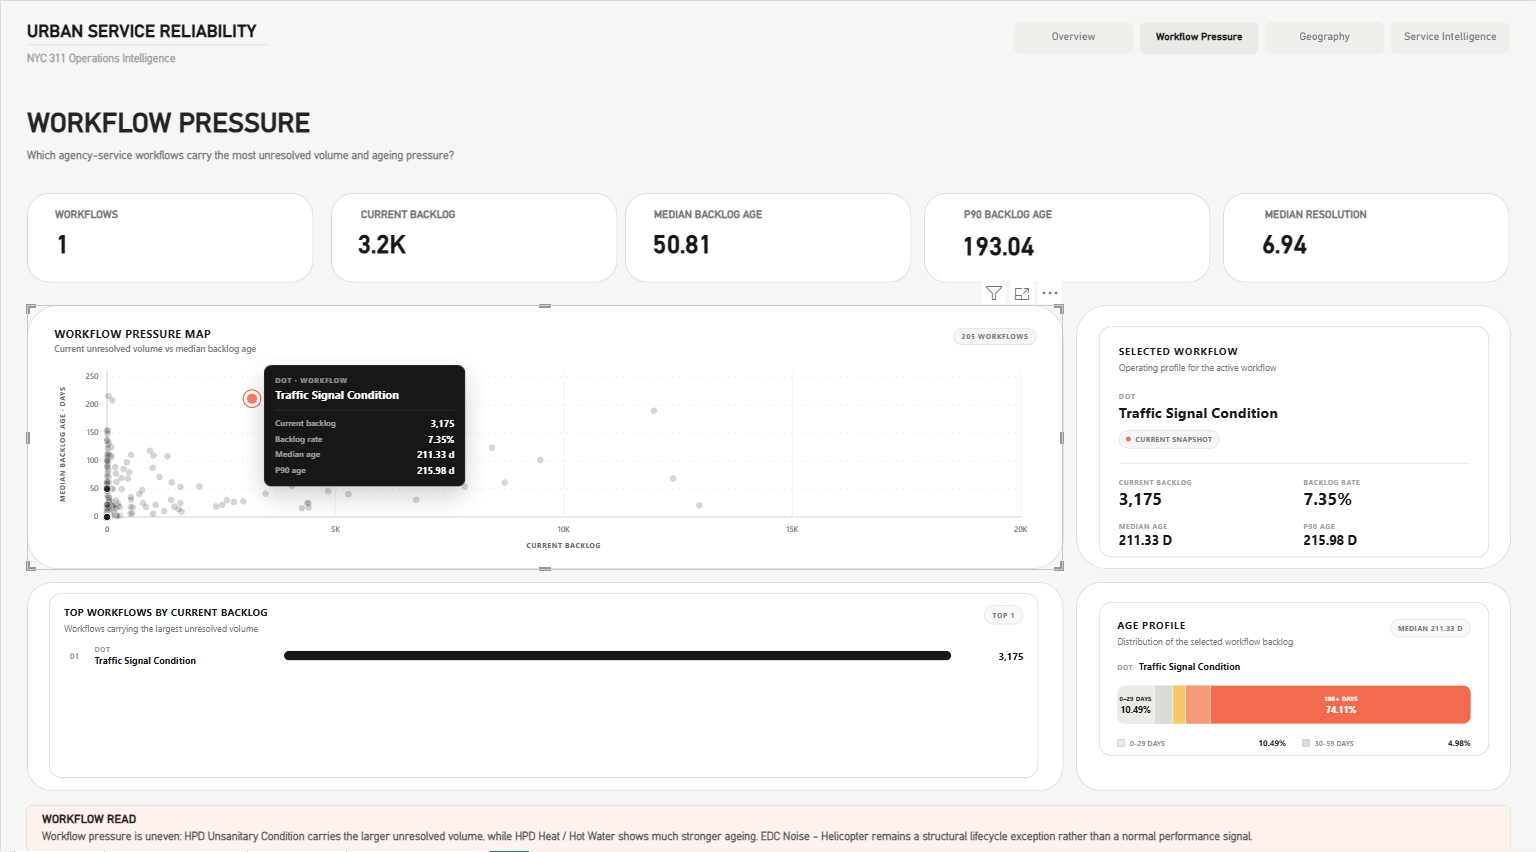

What the dashboard file says about the page in this screenshot:
{"tool":"powerbi","page":{"name":"Workflow Pressure ","canvas":[1920,1080],"ordinal":1},"visuals":[{"type":"textbox","box":[32,25,390,44],"z":0},{"type":"textbox","box":[32,61,300,25],"z":1000},{"type":"shape","box":[32.3,46.6,300.2,16.8],"z":2000},{"type":"pageNavigator","box":[1266.6,25.9,620,40],"z":3000},{"type":"textbox","box":[32,132,600,52],"z":4000},{"type":"textbox","box":[32,182,760,30],"z":5000},{"type":"shape","box":[32,240,358,112],"z":6000},{"type":"shape","box":[412.6,240.2,358,112],"z":7000},{"type":"shape","box":[780,240,358,112],"z":8000},{"type":"shape","box":[1154,240,358,112],"z":9000},{"type":"shape","box":[1528,240,358,112],"z":10000},{"type":"shape","box":[32,380,1296,330],"z":11000},{"type":"shape","box":[30.8,1004.8,1856,60],"z":14000},{"type":"cardVisual","fields":{"Data":["Measures (2).Workflow Count"]},"box":[52,270,310,66],"z":15000},{"type":"textbox","box":[67.3,256.2,249.7,27.2],"z":16000},{"type":"cardVisual","fields":{"Data":["Measures (2).Current Backlog"]},"box":[430.3,269.7,288.8,66.3],"z":17000},{"type":"textbox","box":[449.4,256.4,250.5,30.9],"z":18000},{"type":"cardVisual","fields":{"Data":["Measures (2).Median Backlog Age"]},"box":[797.2,269.7,288.8,66.3],"z":19000},{"type":"textbox","box":[816.3,256.4,250.5,30.9],"z":20000},{"type":"cardVisual","fields":{"Data":["Measures (2).P90 Backlog Age"]},"box":[1184.7,272.6,288.8,66.3],"z":21000},{"type":"cardVisual","fields":{"Data":["Measures (2).Median Resolution Hours"]},"box":[1560.5,269.7,288.8,66.3],"z":22000},{"type":"textbox","box":[1203.2,256.2,251,31.1],"z":23000},{"type":"textbox","box":[1579.6,256.4,250.5,30.9],"z":24000},{"type":"textbox","box":[51.4,1012.1,150,22],"z":30000},{"type":"textbox","box":[51.4,1034.2,1623.3,33.8],"z":32000},{"type":"shape","box":[1344,380,544,330],"z":32001},{"type":"shape","box":[32.3,725.7,1295.7,261.5],"z":32002},{"type":"shape","box":[1344.1,725.7,543.5,261.5],"z":32003},{"type":"selectedWorkflowProfileVisualE2312B653AA94EABBDD27D9DA2A1555","fields":{"workflowId":["DimWorkflow.WorkflowID"],"agency":["DimWorkflow.agency"],"service":["DimWorkflow.service_problem"],"lifecycleInterpretation":["DimWorkflow.lifecycle_interpretation"],"currentBacklog":["Measures (2).Current Backlog"],"backlogRate":["Measures (2).Backlog Rate"],"medianBacklogAge":["Measures (2).Workflow Median Backlog Age"],"p90BacklogAge":["Measures (2).Workflow P90 Backlog Age"],"medianResolutionHours":["Measures (2).Workflow Median Resolution Hours"],"p90ResolutionHours":["Measures (2).Workflow P90 Resolution Hours"]},"box":[1355.9,392.2,520,318.8],"z":32005},{"type":"workflowPressureMapVisual0AC27DFB84C2469D9EDC4ECDB60F6C69","fields":{"workflowId":["DimWorkflow.WorkflowID"],"agency":["DimWorkflow.agency"],"service":["DimWorkflow.service_problem"],"currentBacklog":["Measures (2).Current Backlog"],"backlogRate":["Measures (2).Backlog Rate"],"medianBacklogAge":["Measures (2).Workflow Median Backlog Age"],"p90BacklogAge":["Measures (2).Workflow P90 Backlog Age"]},"box":[32.3,380.5,1295.7,330.5],"z":32006},{"type":"topWorkflowsRankingVisualAB3E07B4B93749248D74B7E29272D061","fields":{"agency":["DimWorkflow.agency"],"workflowId":["DimWorkflow.WorkflowID"],"service":["DimWorkflow.service_problem"],"currentBacklog":["Measures (2).Current Backlog"],"backlogRate":["Measures (2).Backlog Rate"],"medianBacklogAge":["Measures (2).Workflow Median Backlog Age"]},"box":[44.1,725.7,1269.2,261.5],"z":32007},{"type":"workflowAgeProfileVisualDA305D11F38543C29A09FA83B5288A2D","fields":{"workflowId":["DimWorkflow.WorkflowID"],"agency":["DimWorkflow.agency"],"service":["DimWorkflow.service_problem"],"currentBacklog":["Measures (2).Current Backlog"],"medianBacklogAge":["Measures (2).Workflow Median Backlog Age"],"backlog30PlusShare":["Measures (2).Backlog 30+ Share"],"backlog60PlusShare":["Measures (2).Backlog 60+ Share"],"backlog90PlusShare":["Measures (2).Backlog 90+ Share"],"backlog180PlusShare":["Measures (2).Backlog 180+ Share"]},"box":[1356,738,520,222],"z":32008}]}

Visuals, with their boxes in screenshot pixels (x1, y1, x2, y2), scaled from the page's 1920x1080 canvas onto the 1536x852 screenshot:
textbox: 26:20:338:54
textbox: 26:48:266:68
shape: 26:37:266:50
pageNavigator: 1013:20:1509:52
textbox: 26:104:506:145
textbox: 26:144:634:167
shape: 26:189:312:278
shape: 330:189:616:278
shape: 624:189:910:278
shape: 923:189:1210:278
shape: 1222:189:1509:278
shape: 26:300:1062:560
shape: 25:793:1509:840
cardVisual - Measures (2).Workflow Count: 42:213:290:265
textbox: 54:202:254:224
cardVisual - Measures (2).Current Backlog: 344:213:575:265
textbox: 360:202:560:227
cardVisual - Measures (2).Median Backlog Age: 638:213:869:265
textbox: 653:202:853:227
cardVisual - Measures (2).P90 Backlog Age: 948:215:1179:267
cardVisual - Measures (2).Median Resolution Hours: 1248:213:1479:265
textbox: 963:202:1163:227
textbox: 1264:202:1464:227
textbox: 41:798:161:816
textbox: 41:816:1340:843
shape: 1075:300:1510:560
shape: 26:572:1062:779
shape: 1075:572:1510:779
selectedWorkflowProfileVisualE2312B653AA94EABBDD27D9DA2A1555 - DimWorkflow.WorkflowID x DimWorkflow.agency: 1085:309:1501:561
workflowPressureMapVisual0AC27DFB84C2469D9EDC4ECDB60F6C69 - DimWorkflow.WorkflowID x DimWorkflow.agency: 26:300:1062:561
topWorkflowsRankingVisualAB3E07B4B93749248D74B7E29272D061 - DimWorkflow.agency x DimWorkflow.WorkflowID: 35:572:1051:779
workflowAgeProfileVisualDA305D11F38543C29A09FA83B5288A2D - DimWorkflow.WorkflowID x DimWorkflow.agency: 1085:582:1501:757
